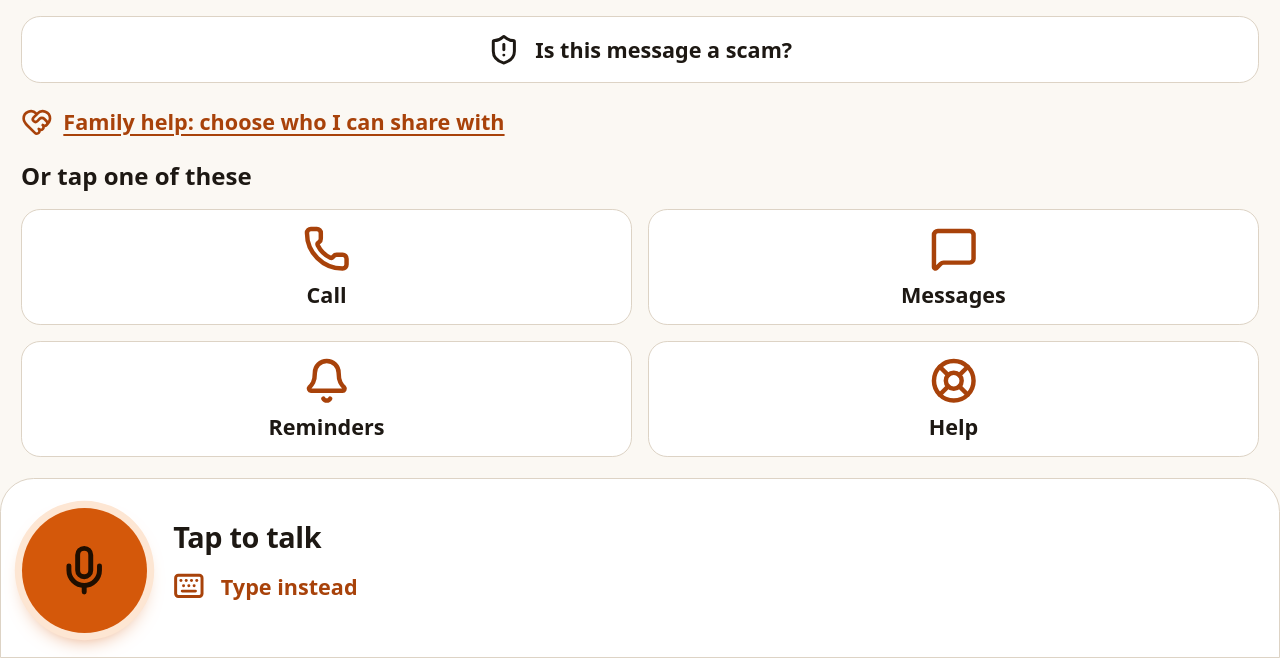
Test case: settings change real behaviour › reduce motion applies to the page and removes the animated listening rings
Earlier steps of the test are not shown.
(page scrolled)
Click the button named "Tap to talk" at (84, 570), box [22,508,147,633]
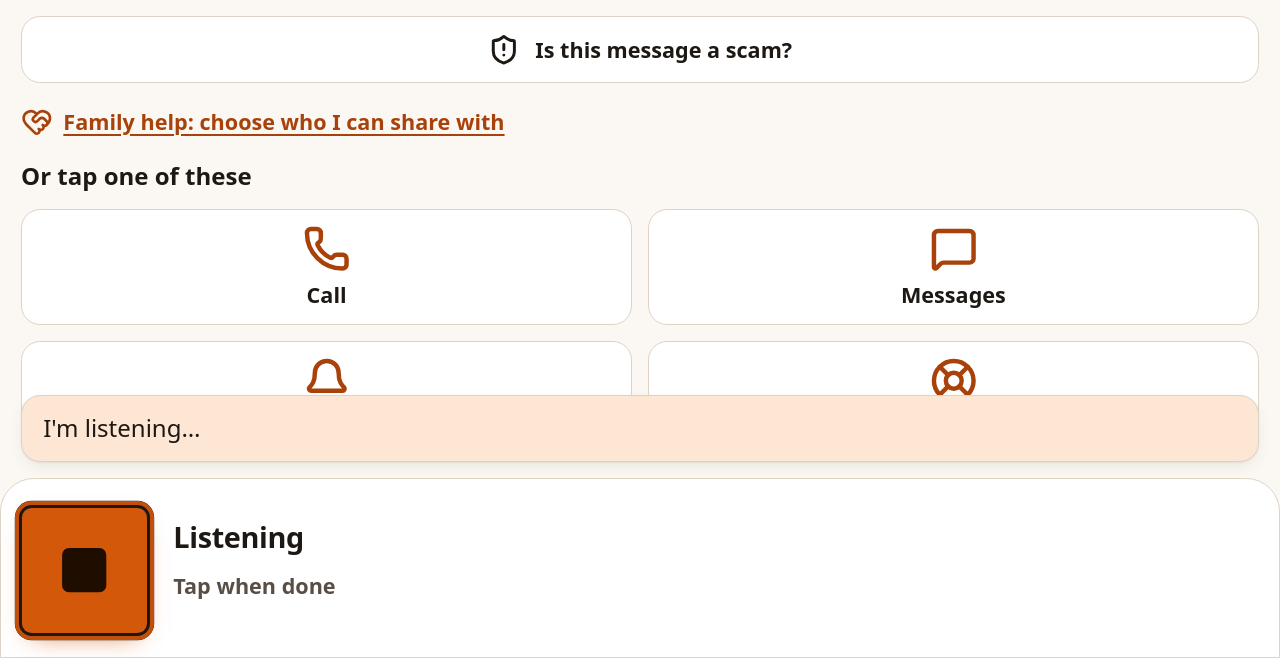
Now the button named "Listening. Tap when done" is shown, box [22,508,147,633]
